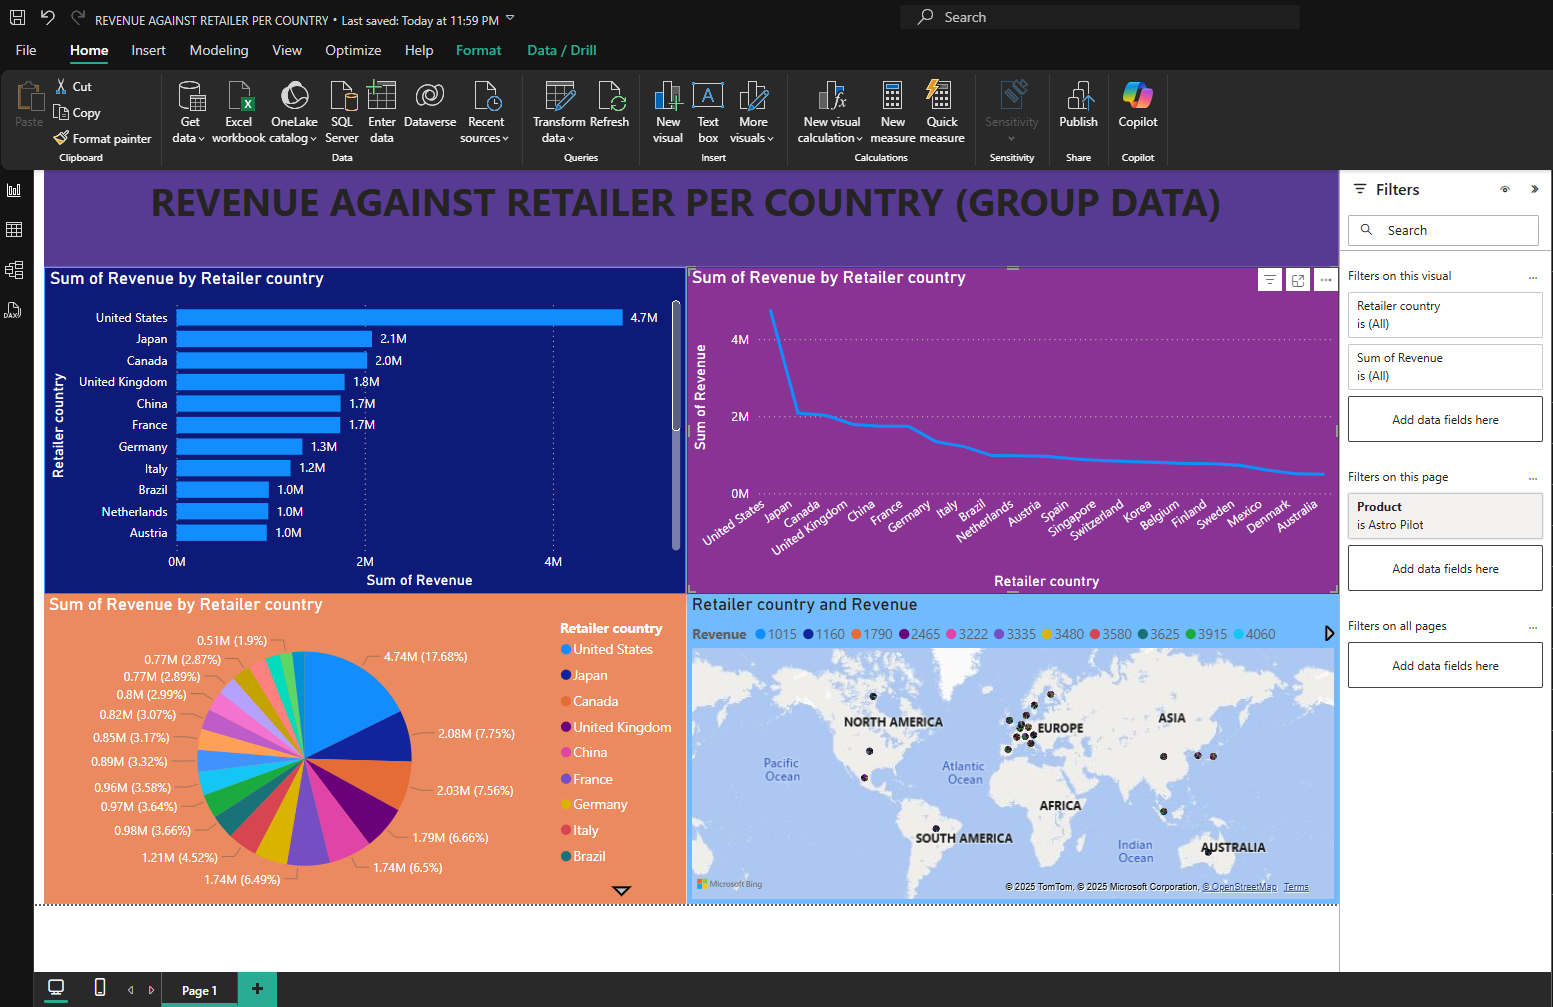

This screenshot's page, from the dashboard's own definition file:
{"tool":"powerbi","page":{"name":"Page 1","canvas":[1280,720],"ordinal":0},"visuals":[{"type":"textbox","box":[10,0,1270,95],"z":0},{"type":"barChart","fields":{"Category":["WA_Sales_Products_2012-15.Retailer country"],"Y":["Sum(WA_Sales_Products_2012-15.Revenue)"]},"box":[10,95,630,321],"z":1000},{"type":"lineChart","fields":{"Y":["Sum(WA_Sales_Products_2012-15.Revenue)"],"Category":["WA_Sales_Products_2012-15.Retailer country"]},"box":[640,95,640,321],"z":2000},{"type":"pieChart","fields":{"Y":["Sum(WA_Sales_Products_2012-15.Revenue)"],"Category":["WA_Sales_Products_2012-15.Retailer country"]},"box":[10,416,630,304],"z":3000},{"type":"map","fields":{"Category":["WA_Sales_Products_2012-15.Retailer country"],"Series":["WA_Sales_Products_2012-15.Revenue"]},"box":[640,416,640,304],"z":4000}]}

Visuals, with their boxes on the page's 1280x720 design canvas (x1, y1, x2, y2). These are canvas units, not pixel positions in the 1553x1007 screenshot, which may show the page scaled, cropped or inside an application window:
textbox: pyautogui.locateOnScreen(10, 0, 1280, 95)
barChart - WA_Sales_Products_2012-15.Retailer country x Sum(WA_Sales_Products_2012-15.Revenue): pyautogui.locateOnScreen(10, 95, 640, 416)
lineChart - Sum(WA_Sales_Products_2012-15.Revenue) x WA_Sales_Products_2012-15.Retailer country: pyautogui.locateOnScreen(640, 95, 1280, 416)
pieChart - Sum(WA_Sales_Products_2012-15.Revenue) x WA_Sales_Products_2012-15.Retailer country: pyautogui.locateOnScreen(10, 416, 640, 720)
map - WA_Sales_Products_2012-15.Retailer country x WA_Sales_Products_2012-15.Revenue: pyautogui.locateOnScreen(640, 416, 1280, 720)
